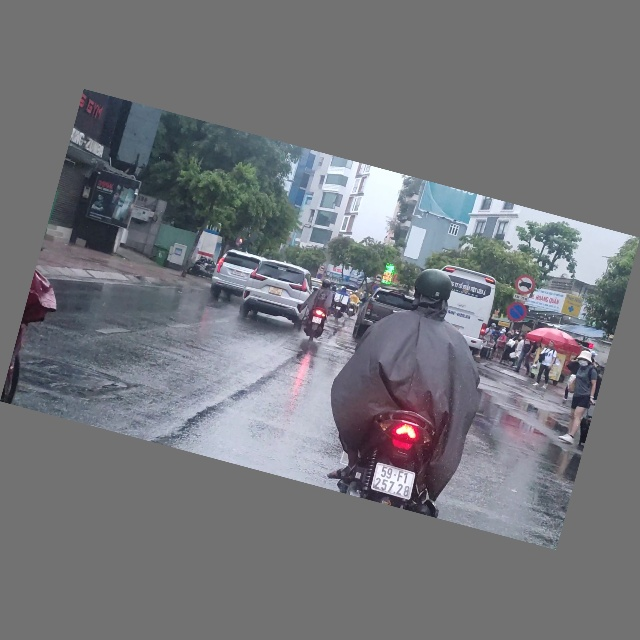P.106a*Xe tai: (512, 273, 538, 298), (375, 274, 384, 283)
P.131a: (504, 299, 530, 325)
